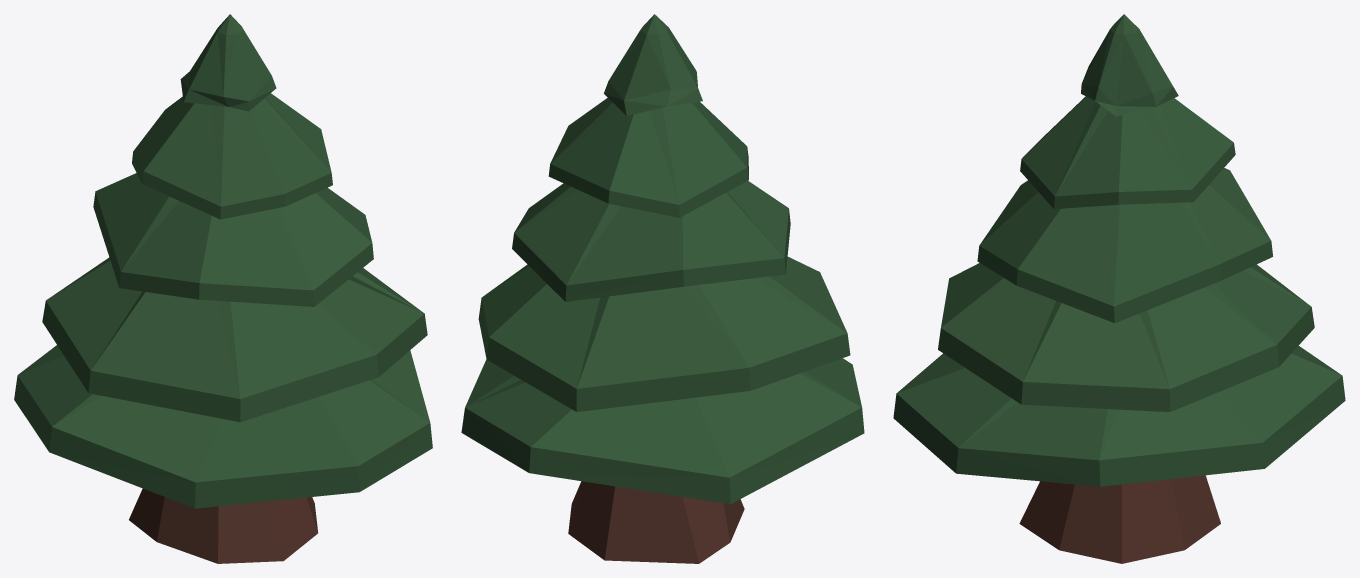
Rendered from xmas tree no snow.fbx.
The picture shows the model from 3 angles, left to right: view 1: azimuth 30°, elevation 25°; view 2: azimuth 150°, elevation 25°; view 3: azimuth 270°, elevation 25°; orthographic projection.
Parts seen in each view (by area): view 1: Cube; view 2: Cube; view 3: Cube.
Boxes of the visible parts, x1,y1,x2,y2 form: Cube: (14,14,432,563); Cube: (461,14,864,563); Cube: (893,14,1345,563).
Bounding box in the file's own units: 671 × 894 × 720.
